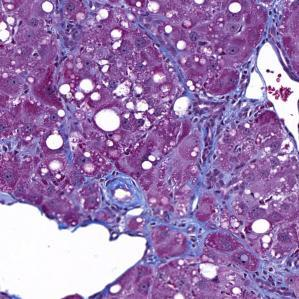fibrosis: (84, 174, 224, 239), (184, 90, 266, 137)
